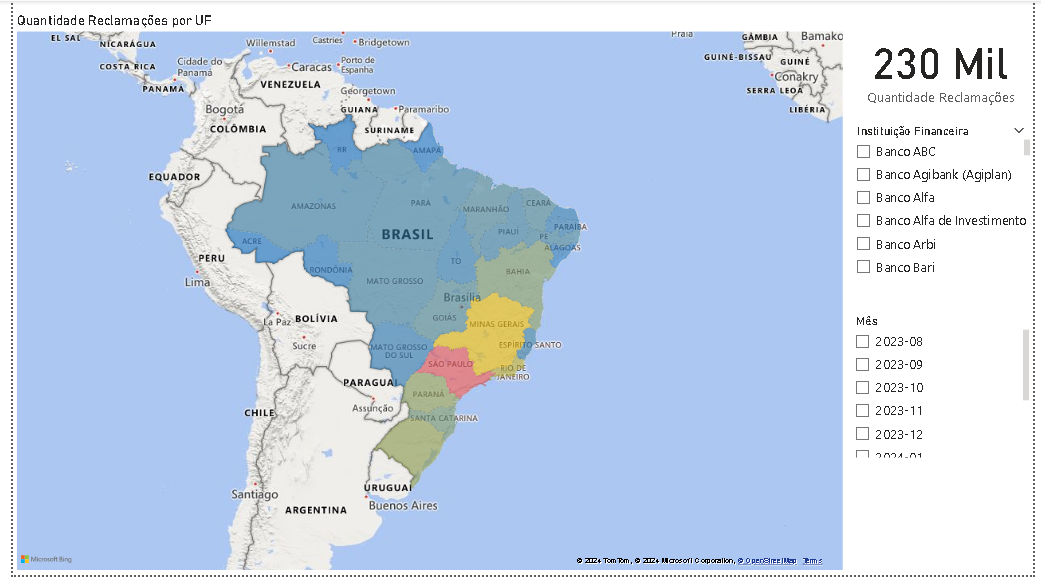

Layout of this report page (visuals, bound fields, positions):
{"tool":"powerbi","page":{"name":"Reclamação por UF","canvas":[1280,720],"ordinal":3},"visuals":[{"type":"filledMap","fields":{"Category":["reclamacaouf.UF2"]},"box":[0,14.4,1045.6,706.2],"z":0},{"type":"card","fields":{"Values":["Sum(reclamacaouf.Quantidade Reclamações)"]},"box":[1045.6,13.7,235,137.4],"z":1000},{"type":"slicer","fields":{"Values":["reclamacaouf.Instituição Financeira"]},"box":[1045.6,151.1,235,208.9],"z":2000},{"type":"slicer","fields":{"Values":["reclamacaouf.Mês"]},"box":[1044.9,388.9,234.6,189.4],"z":3000}]}

Visuals, with their boxes in screenshot pixels (x1, y1, x2, y2), scaled from the page's 1280x720 canvas onto the 1041x580 screenshot:
filledMap - reclamacaouf.UF2: Rect(0, 12, 850, 579)
card - Sum(reclamacaouf.Quantidade Reclamações): Rect(850, 11, 1040, 122)
slicer - reclamacaouf.Instituição Financeira: Rect(850, 122, 1040, 290)
slicer - reclamacaouf.Mês: Rect(850, 313, 1040, 466)
